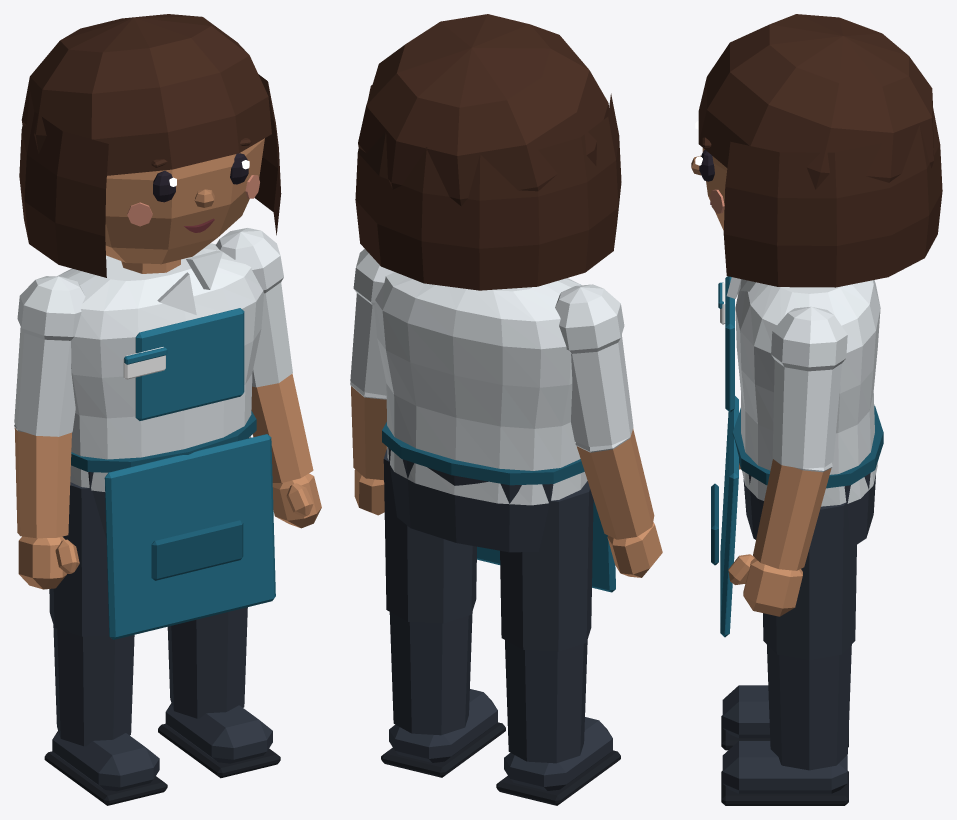
The model's file is kas_grundmodell.glb.
The picture shows the model from 3 angles, left to right: view 1: azimuth 30°, elevation 25°; view 2: azimuth 150°, elevation 25°; view 3: azimuth 270°, elevation 25°; orthographic projection.
Parts seen in each view (by area): view 1: haare, schürze, torso, arm_r, bein_r, kopf, arm_l, bein_l, schuh_r, schuh_l, hand_r, gesicht (+3 smaller); view 2: haare, torso, bein_r, bein_l, arm_r, becken, arm_l, schürze, schuh_r, schuh_l, hand_r, hand_l; view 3: haare, bein_l, arm_l, torso, schürze, schuh_l, hand_l, schuh_r, becken, gesicht, kopf.
Boxes of the visible parts, x1,y1,x2,y2 form: haare: (19,14,281,277); schürze: (71,308,275,639); torso: (57,243,263,491); arm_r: (14,276,85,538); bein_r: (49,482,134,746); kopf: (105,138,264,264); arm_l: (215,228,313,483); bein_l: (167,436,251,718); schuh_r: (44,731,167,805); schuh_l: (158,703,280,778); hand_r: (18,536,79,589); gesicht: (127,138,259,232); haare: (355,14,621,290); torso: (374,272,587,505); bein_r: (500,481,593,763); bein_l: (383,448,476,735); arm_r: (555,284,654,539); becken: (388,448,553,552); arm_l: (350,249,394,480); schürze: (382,422,615,592); schuh_r: (496,717,620,805); schuh_l: (381,689,505,777); hand_r: (607,522,662,577); hand_l: (354,469,384,515); haare: (698,14,942,287); bein_l: (763,502,856,770); arm_l: (753,306,847,570); torso: (735,280,880,506); schürze: (711,276,883,637); schuh_l: (721,741,848,805); hand_l: (728,554,802,616); schuh_r: (721,685,848,750); becken: (743,473,875,548); gesicht: (691,121,724,213); kopf: (702,148,727,230).
Bounding box in the file's own units: 0.0103 × 0.0245 × 0.00763.
